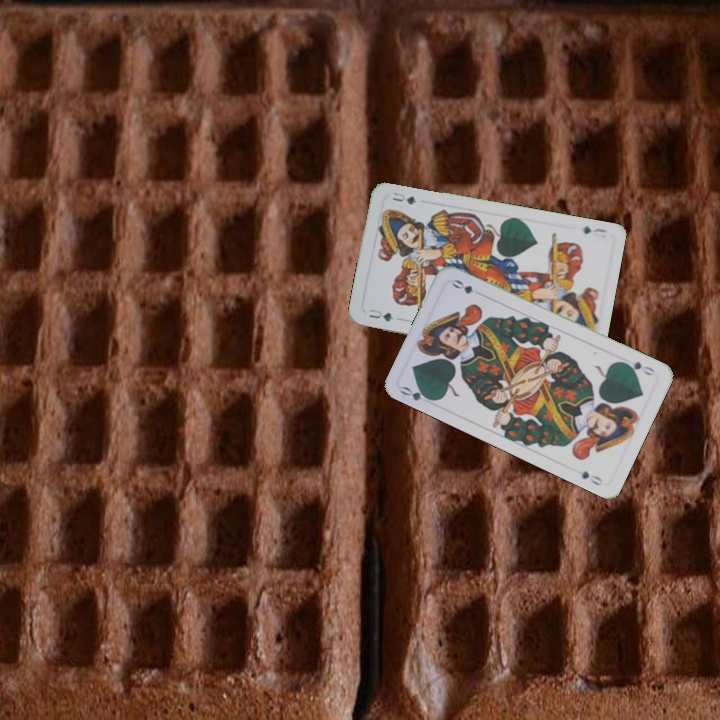GO: (396, 382, 437, 407), (619, 357, 658, 378)
GU: (365, 305, 396, 324), (579, 222, 609, 241)
